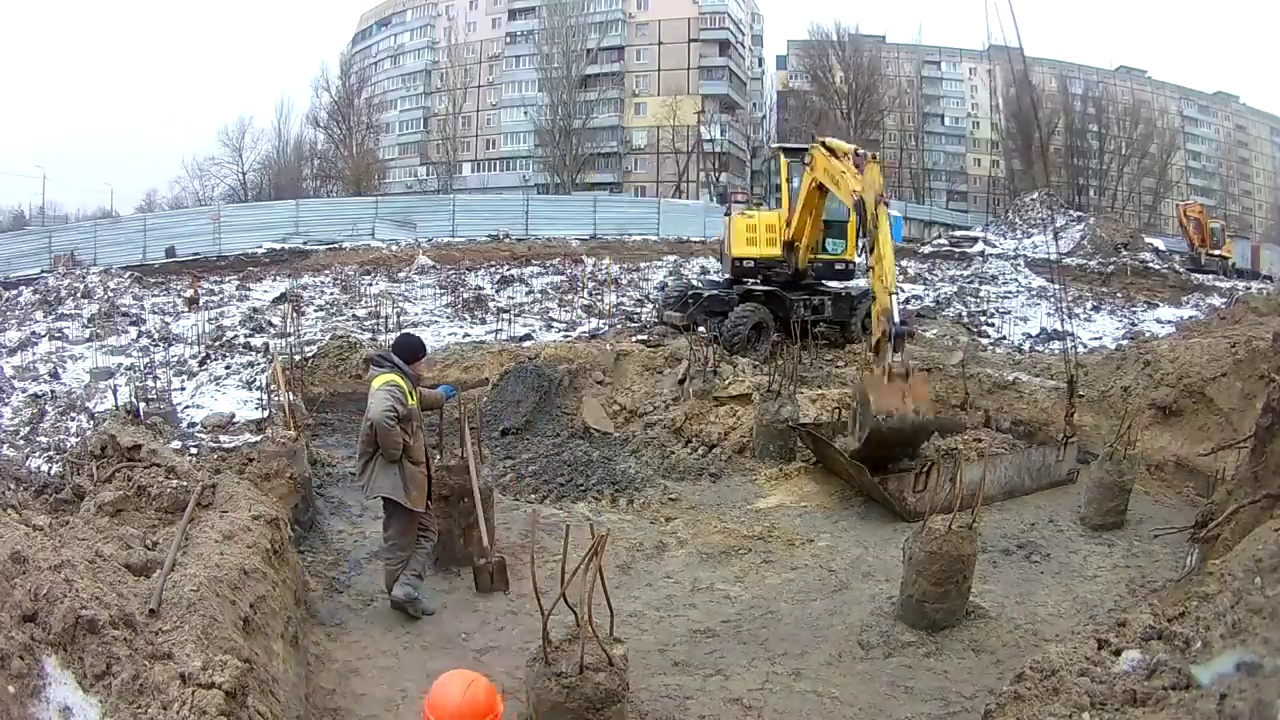helmet: (421, 670, 505, 720)
helmet-off: (384, 336, 426, 379)
person: (356, 333, 460, 606)
